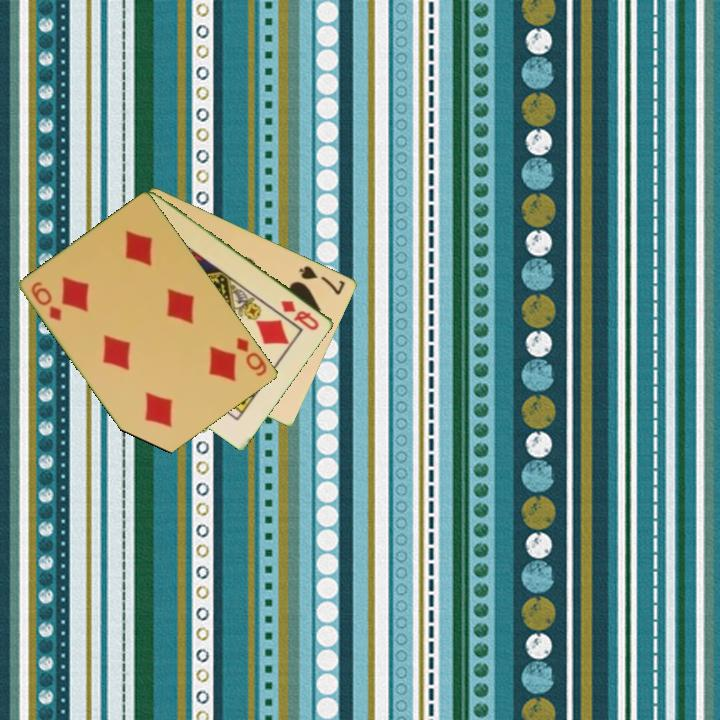6d: (233, 333, 270, 379), (28, 278, 65, 324)
7s: (296, 262, 348, 298)
Qd: (277, 296, 322, 333)
